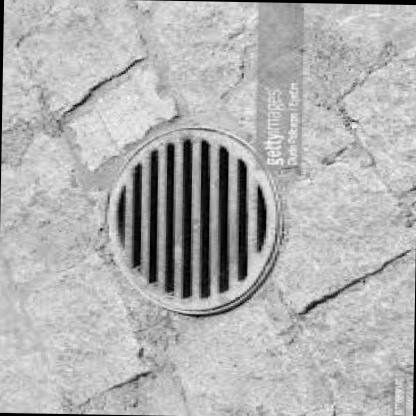manholes: (73, 111, 345, 331)
